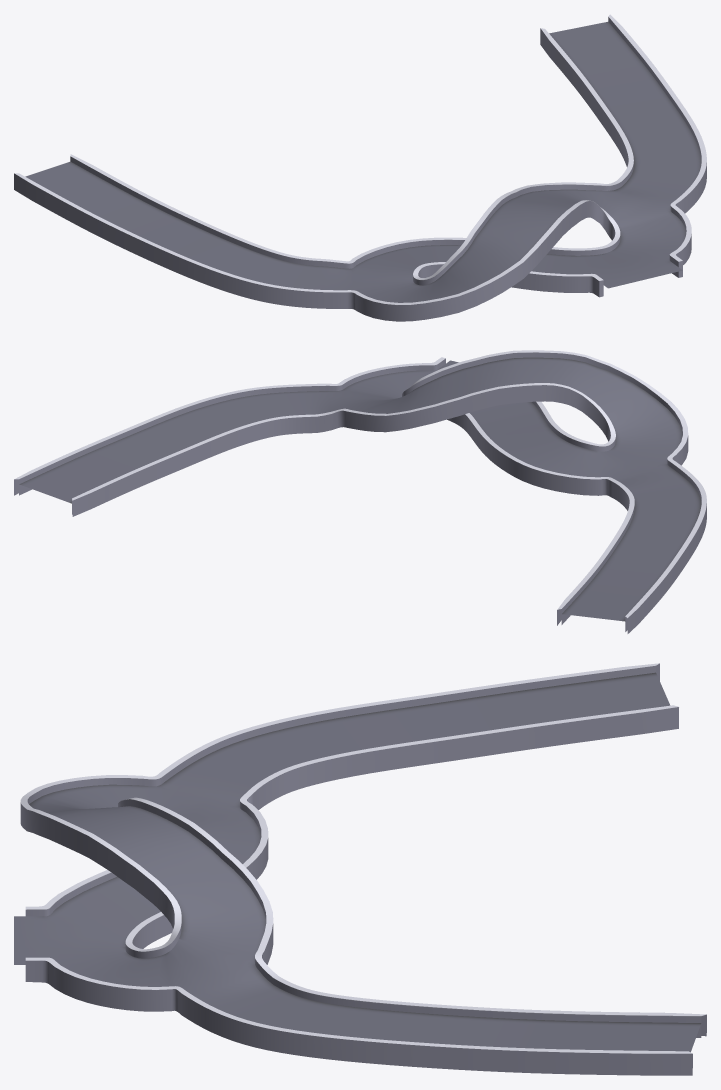
The model's file is Loop_footage8.FBX.
The picture shows the model from 3 angles, top to bottom: view 1: azimuth 30°, elevation 25°; view 2: azimuth 150°, elevation 25°; view 3: azimuth 270°, elevation 25°; orthographic projection. The views are drawn at different scales.
Parts seen in each view (by area): view 1: Loop_footage8; view 2: Loop_footage8; view 3: Loop_footage8.
Boxes of the visible parts, x1=… form: Loop_footage8: x1=14, y1=14, x2=706, y2=321; Loop_footage8: x1=14, y1=350, x2=706, y2=633; Loop_footage8: x1=14, y1=663, x2=706, y2=1075.
Size of the model in its own units: 6.72 by 0.7324 by 5.02.
